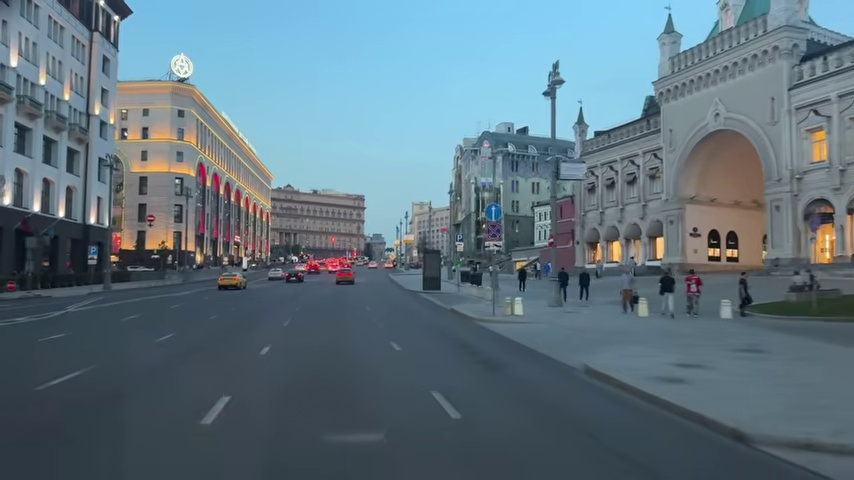apagada: (540, 74, 567, 102)
